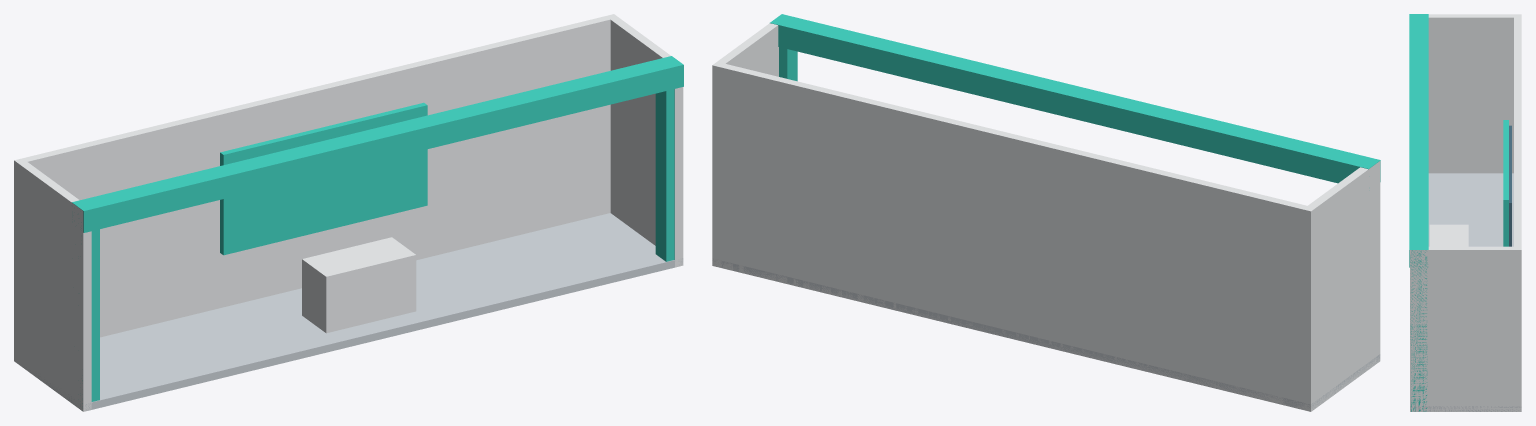
3 renders of one model, left to right at view 1: azimuth 30°, elevation 25°; view 2: azimuth 150°, elevation 25°; view 3: azimuth 270°, elevation 25°, orthographic. The views are drawn at different scales.
Parts seen in each view (by area): view 1: Exhibition Booth Concept; view 2: Exhibition Booth Concept; view 3: Exhibition Booth Concept.
Boxes of the visible parts, <box> form: Exhibition Booth Concept: <box>14,14,683,411</box>; Exhibition Booth Concept: <box>712,14,1380,411</box>; Exhibition Booth Concept: <box>1409,14,1521,411</box>.
Size of the model in its own units: 10 by 3.2 by 2.01.
